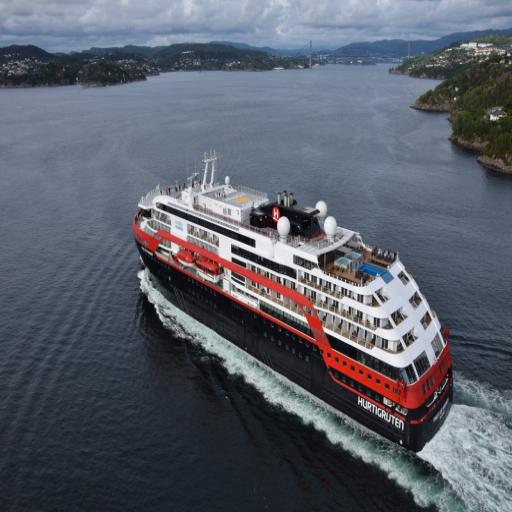cruises: (128, 145, 459, 461)
